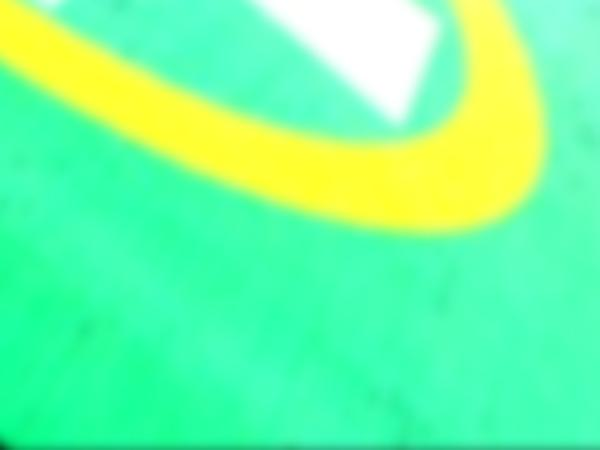Apron: (1, 2, 548, 235)
